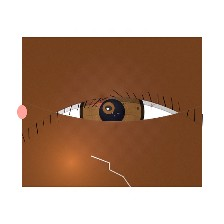foreign_body_visible: (79, 124, 127, 162)
